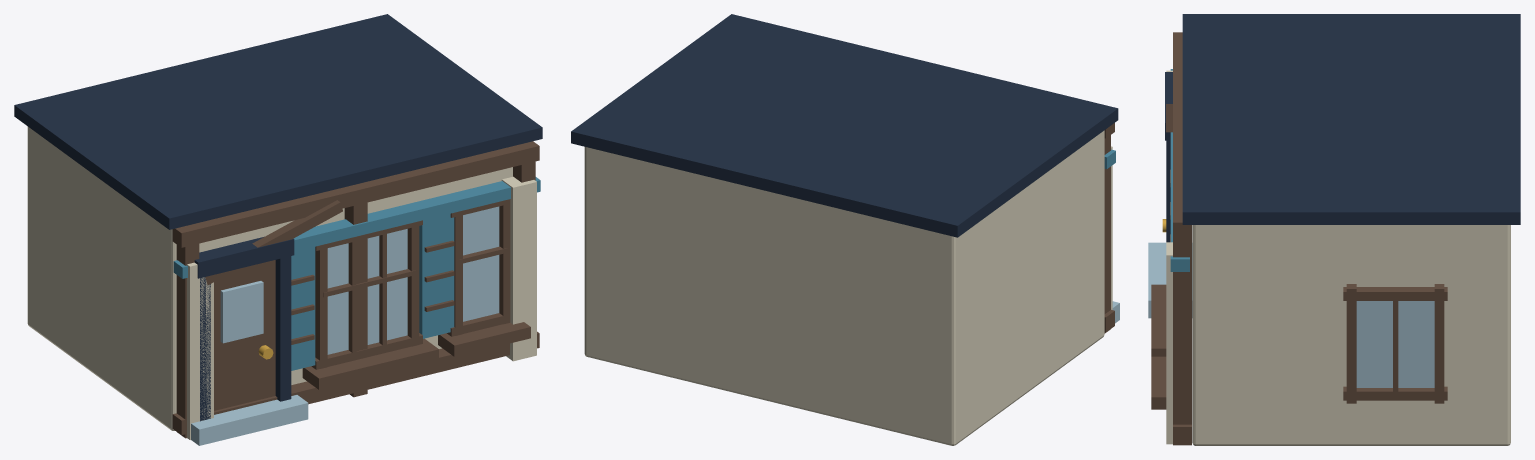
File: floor_banks_2.glb
3 views of the same model, side by side, from view 1: azimuth 30°, elevation 25°; view 2: azimuth 150°, elevation 25°; view 3: azimuth 270°, elevation 25° (orthographic). The views are drawn at different scales.
Visible parts, largest first — view 1: floor_banks_2 ink, floor_banks_2 plaster, floor_banks_2 wood, floor_banks_2 glass, floor_banks_2 river, floor_banks_2 mist; view 2: floor_banks_2 plaster, floor_banks_2 ink, floor_banks_2 wood; view 3: floor_banks_2 ink, floor_banks_2 plaster, floor_banks_2 wood, floor_banks_2 glass, floor_banks_2 mist, floor_banks_2 river.
Part boxes in pixels (x1=…): floor_banks_2 ink: x1=14, y1=14, x2=542, y2=421; floor_banks_2 plaster: x1=27, y1=126, x2=536, y2=439; floor_banks_2 wood: x1=172, y1=141, x2=539, y2=438; floor_banks_2 glass: x1=220, y1=206, x2=499, y2=354; floor_banks_2 river: x1=173, y1=177, x2=540, y2=370; floor_banks_2 mist: x1=191, y1=395, x2=308, y2=445; floor_banks_2 plaster: x1=584, y1=130, x2=1112, y2=445; floor_banks_2 ink: x1=571, y1=14, x2=1118, y2=237; floor_banks_2 wood: x1=1104, y1=123, x2=1114, y2=333; floor_banks_2 ink: x1=1165, y1=14, x2=1520, y2=242; floor_banks_2 plaster: x1=1166, y1=70, x2=1510, y2=445; floor_banks_2 wood: x1=1151, y1=32, x2=1447, y2=445; floor_banks_2 glass: x1=1356, y1=301, x2=1434, y2=387; floor_banks_2 mist: x1=1148, y1=242, x2=1192, y2=318; floor_banks_2 river: x1=1170, y1=69, x2=1189, y2=271.
Size of the model in its own units: 0.8745 by 0.48 by 0.6775.
